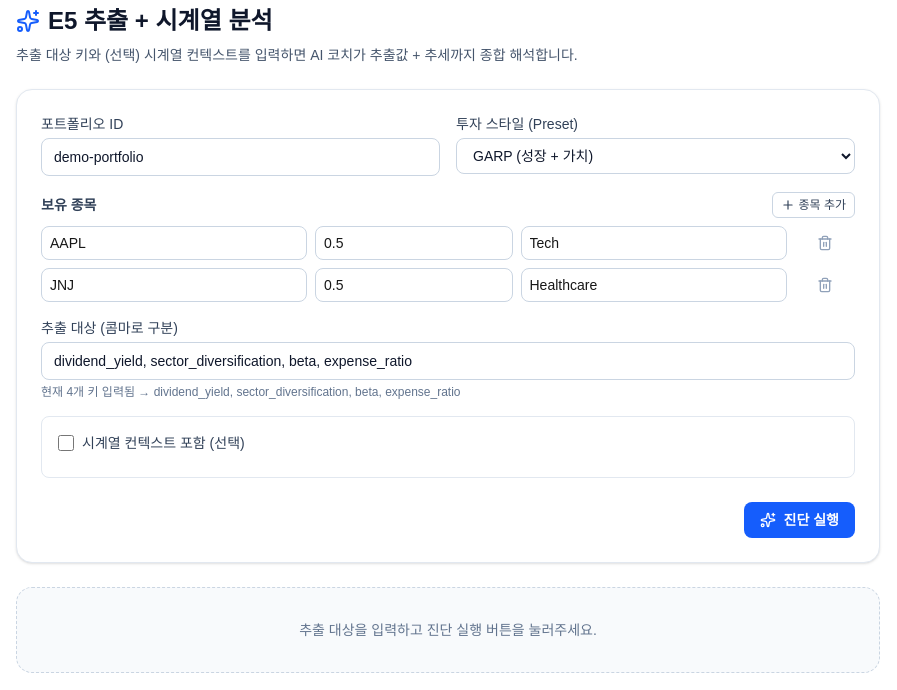
E5 coach page (E5CoachContent) › happy-path: 제출 → summary + action_items + quoted_metrics 렌더
What coordinates should you click on to do the following:
click the button "진단 실행"
I would click on:
 (799, 520)
Its box is [744, 502, 855, 538].
(page scrolled)
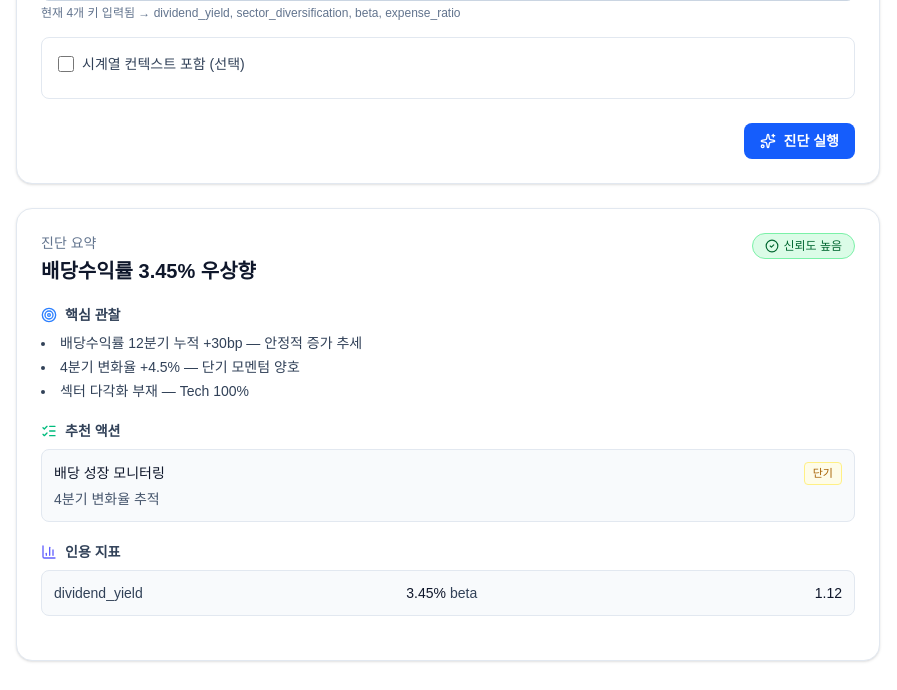
Expected: the element with test id "commentary-card" is shown
Expected: the heading "배당수익률 3.45% 우상향" is shown, [41, 257, 256, 285]
Expected: the heading "추천 액션" is shown, [41, 423, 120, 439]
